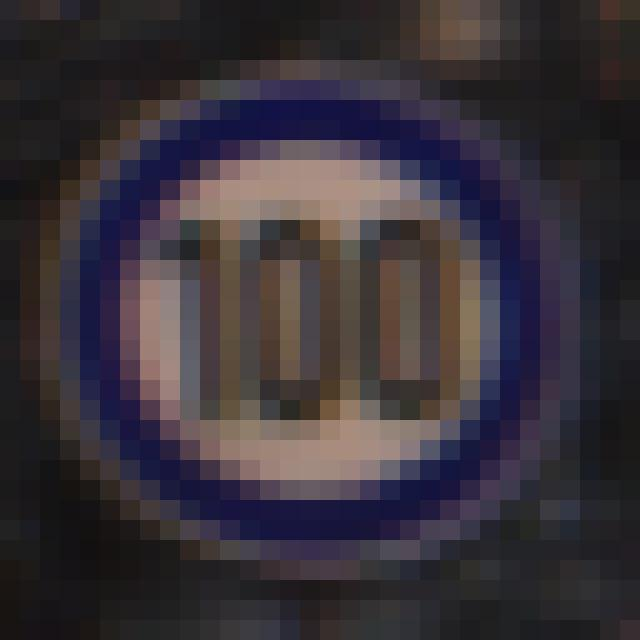SPEED LIMIT 100: (49, 87, 577, 566)
